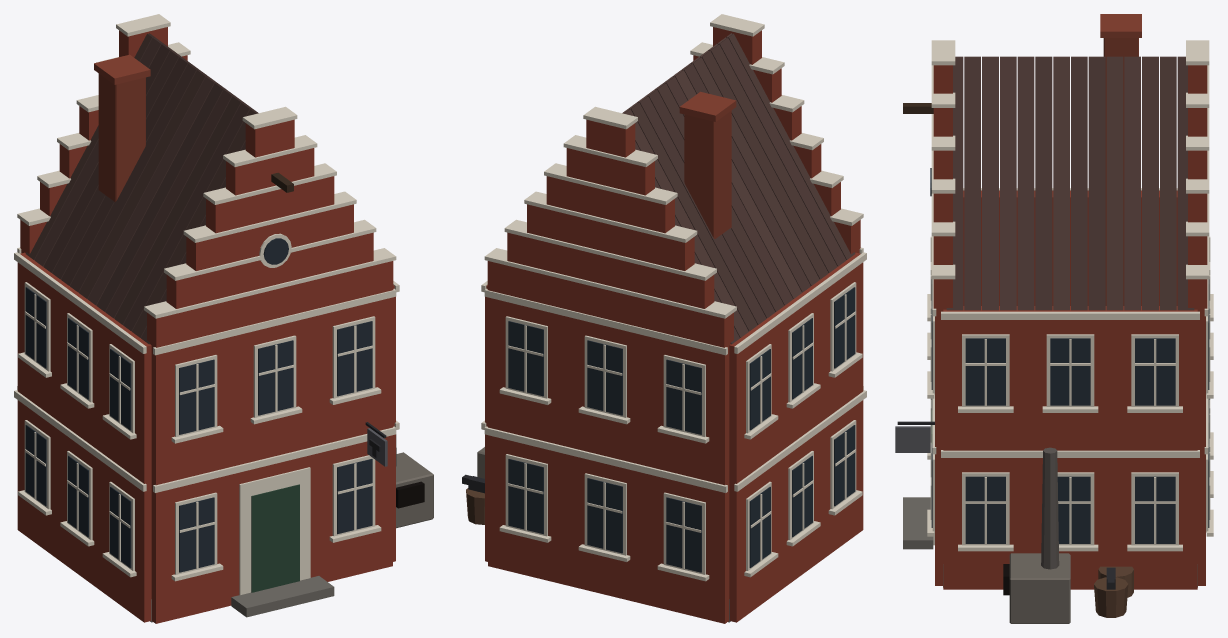
File: forge_3.glb
The picture shows the model from 3 angles, left to right: view 1: azimuth 30°, elevation 25°; view 2: azimuth 150°, elevation 25°; view 3: azimuth 270°, elevation 25°; orthographic projection.
Visible parts, largest first — view 1: forge3_brick, forge3_tiles, forge3_stone, forge3_glass, forge3_wood, forge3_soot; view 2: forge3_brick, forge3_tiles, forge3_glass, forge3_stone, forge3_wood; view 3: forge3_tiles, forge3_brick, forge3_stone, forge3_glass, forge3_wood.
Boxes of the visible parts, x1=… form: forge3_brick: x1=17, y1=27, x2=395, y2=623; forge3_tiles: x1=25, y1=33, x2=258, y2=344; forge3_stone: x1=14, y1=14, x2=433, y2=622; forge3_glass: x1=25, y1=238, x2=372, y2=572; forge3_wood: x1=24, y1=172, x2=387, y2=592; forge3_soot: x1=396, y1=481, x2=424, y2=508; forge3_brick: x1=485, y1=27, x2=863, y2=623; forge3_tiles: x1=622, y1=33, x2=855, y2=344; forge3_glass: x1=508, y1=287, x2=855, y2=572; forge3_stone: x1=477, y1=14, x2=866, y2=622; forge3_wood: x1=466, y1=282, x2=856, y2=574; forge3_tiles: x1=946, y1=56, x2=1194, y2=310; forge3_brick: x1=933, y1=14, x2=1207, y2=589; forge3_stone: x1=903, y1=40, x2=1213, y2=623; forge3_glass: x1=930, y1=168, x2=1209, y2=543; forge3_wood: x1=895, y1=103, x2=1210, y2=617.
Bounding box in the file's own units: 7.52 × 10.39 × 6.27.
